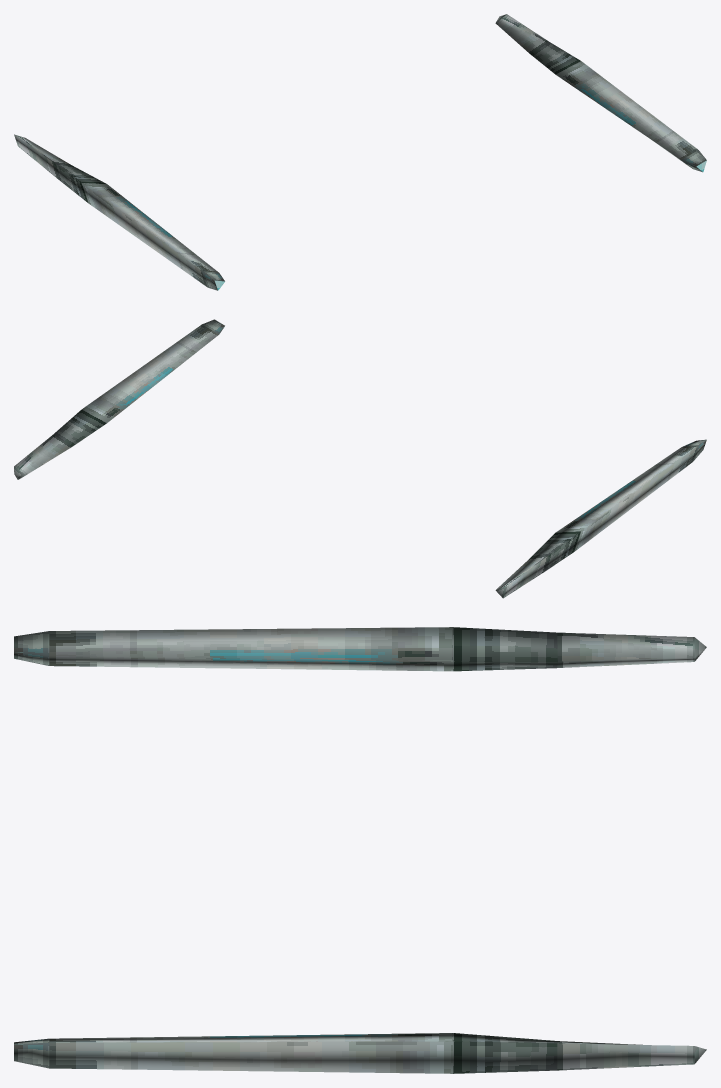
The model's file is awing_weapon_s02_l3.fbx.
The picture shows the model from 3 angles, top to bottom: view 1: azimuth 30°, elevation 25°; view 2: azimuth 150°, elevation 25°; view 3: azimuth 270°, elevation 25°; orthographic projection. The views are drawn at different scales.
Visible parts, largest first — view 1: mesh_node; view 2: mesh_node; view 3: mesh_node.
Boxes of the visible parts, bbox=[...] form: mesh_node: bbox=[14, 14, 706, 290]; mesh_node: bbox=[14, 319, 706, 598]; mesh_node: bbox=[14, 627, 706, 1073].
Bounding box in the file's own units: 9.17 × 0.3955 × 6.48.
Materials: 1 (1 with a texture image).
